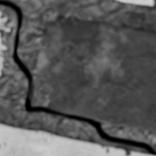brick: (30, 15, 155, 132), (0, 123, 152, 155), (0, 27, 9, 50), (119, 0, 153, 5), (0, 57, 4, 70), (0, 17, 6, 25)
crack: (0, 0, 155, 155)
